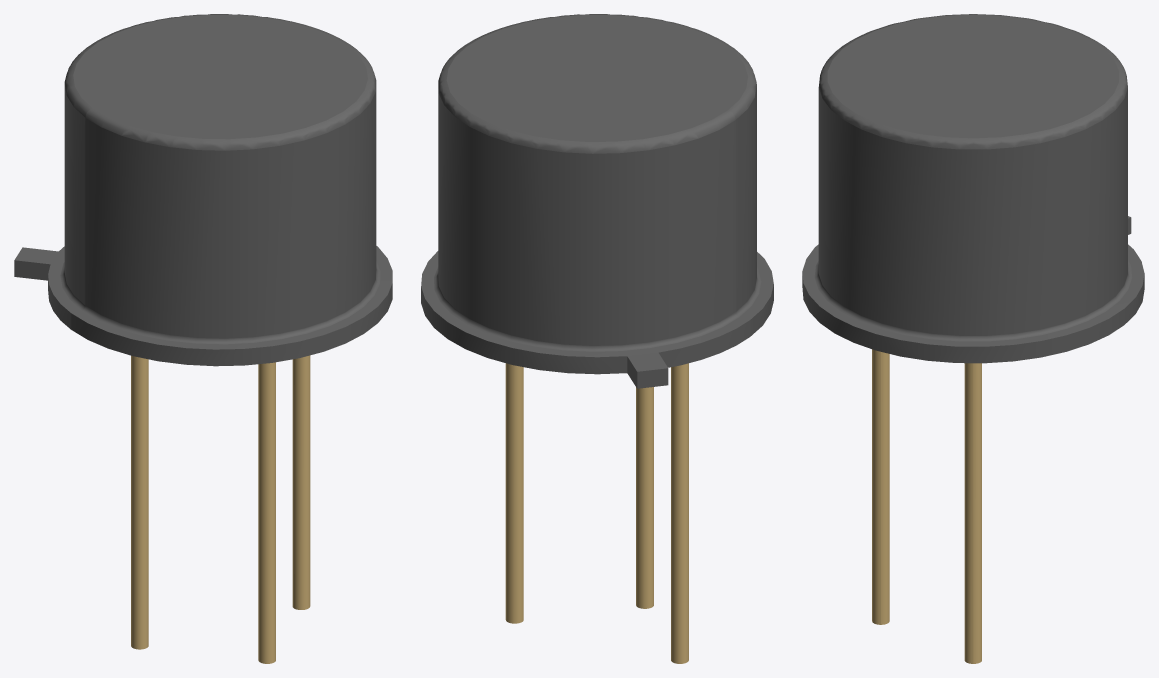
3 renders of one model, left to right at view 1: azimuth 30°, elevation 25°; view 2: azimuth 150°, elevation 25°; view 3: azimuth 270°, elevation 25°, orthographic. The views are drawn at different scales.
Visible parts, largest first — view 1: 0.16666666666666666_0.16666666666666666_0.16666666666666666_, 0.75_0.5_0.25_0.9; view 2: 0.16666666666666666_0.16666666666666666_0.16666666666666666_, 0.75_0.5_0.25_0.9; view 3: 0.16666666666666666_0.16666666666666666_0.16666666666666666_, 0.75_0.5_0.25_0.9.
Boxes of the visible parts, x1,y1,x2,y2 form: 0.16666666666666666_0.16666666666666666_0.16666666666666666_: (14,14,392,366); 0.75_0.5_0.25_0.9: (131,355,310,663); 0.16666666666666666_0.16666666666666666_0.16666666666666666_: (421,14,773,388); 0.75_0.5_0.25_0.9: (505,363,688,663); 0.16666666666666666_0.16666666666666666_0.16666666666666666_: (802,14,1144,363); 0.75_0.5_0.25_0.9: (872,349,981,663).
Size of the model in its own units: 0.9389 by 1.65 by 0.9393.
